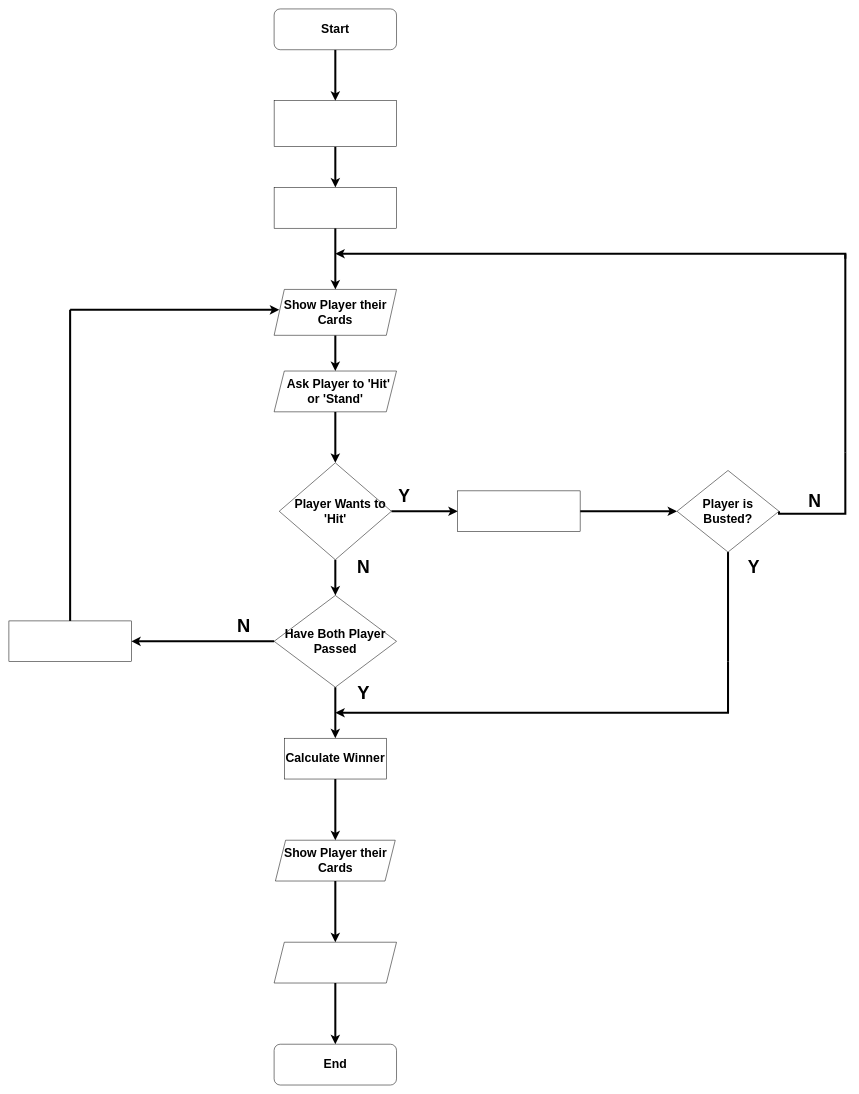
The diagram is 859 pixels wide and 1094 high, and some of its shapes have lost their labels. Here are the shapes that lost their labels. From the top down, the centre of each, then its label:
At (x=335, y=123): "Give Two Cards To Each Player".
At (x=335, y=207): "Player == User".
At (x=518, y=511): "Give New Card To Player".
At (x=69, y=641): "Switch Player".
At (x=335, y=962): "Announce Winner".
